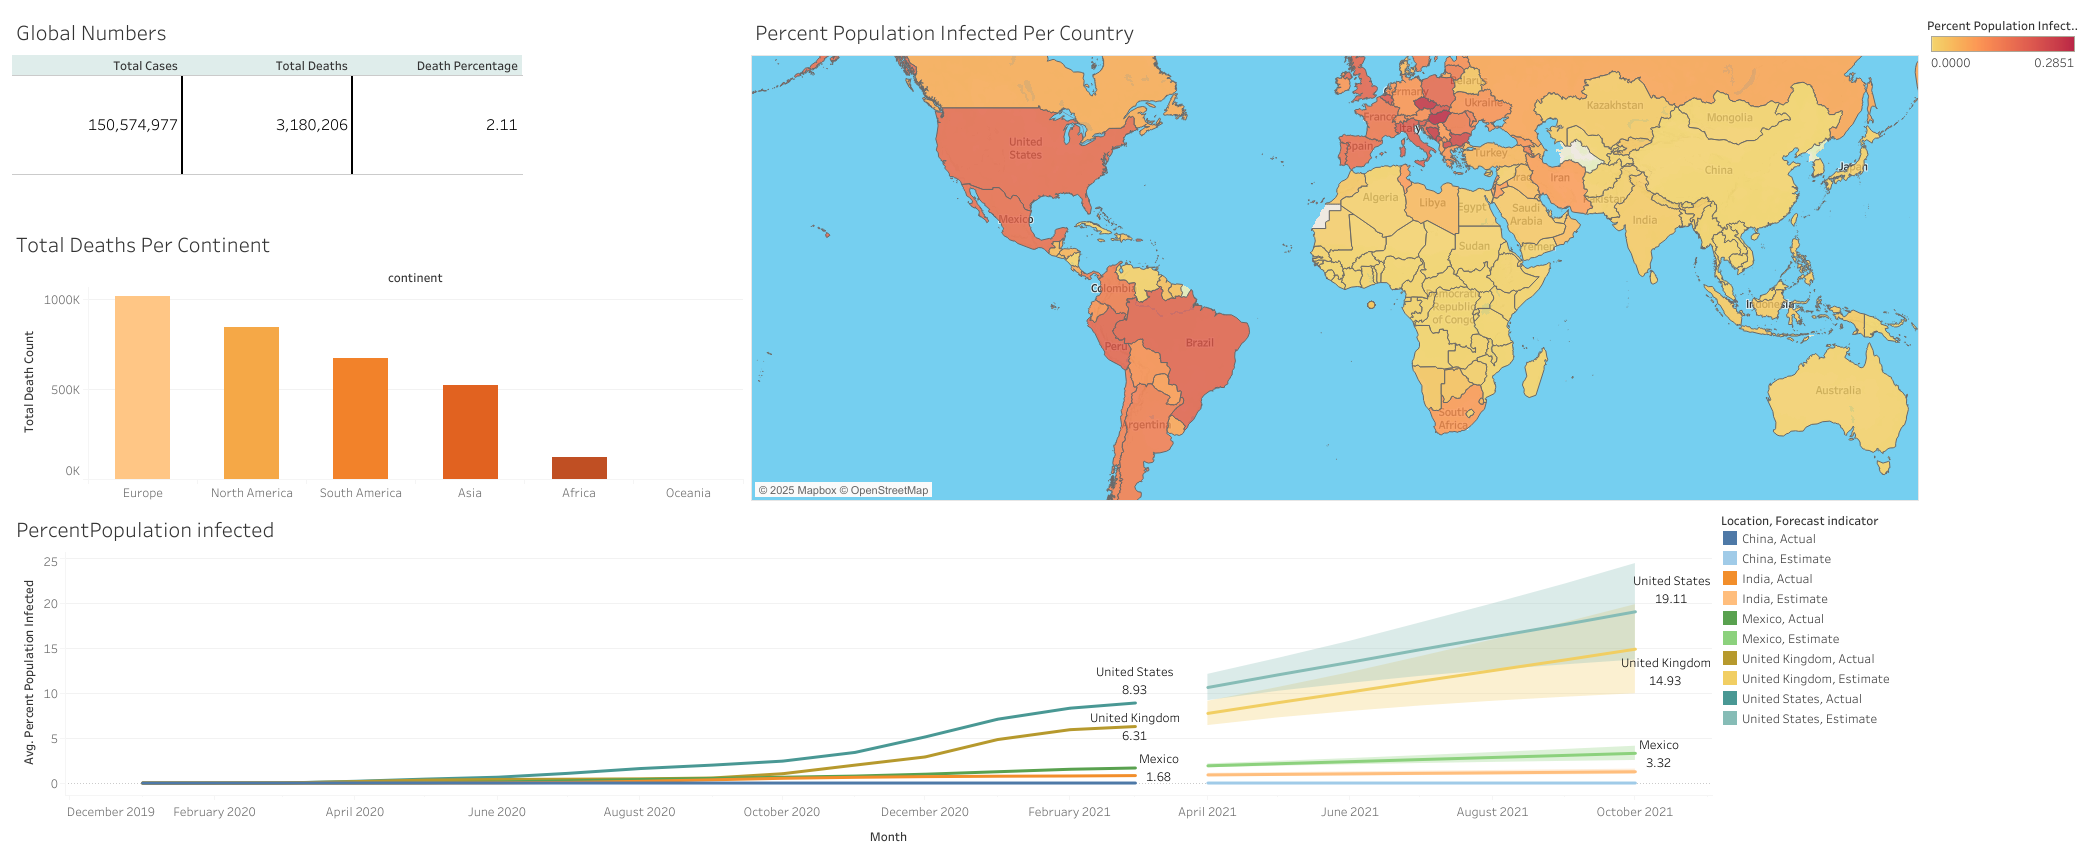

What the dashboard file says about the page in this screenshot:
{"tool":"tableau","page":{"name":"Dashboard 1","canvas":[1000,1000],"units":"permille","ordinal":0},"visuals":[{"type":"worksheet","title":"Sheet 1","mark":"Automatic","box":[4.7,9.3,346.4,245.3]},{"type":"worksheet","title":"Sheet 3","mark":"Automatic","box":[351.1,9.3,550.6,574.8]},{"type":"legend","title":"Sheet 3","param":"[federated.0pkf73y0p6iyuc1e1s4l01lr5zsd].[sum:PercentPopulationInfected:qk]","box":[901.7,9.3,93.6,75.9]},{"type":"worksheet","title":"Sheet 2","mark":"Automatic","rows":["TotalDeathCount"],"cols":["location"],"box":[4.7,254.7,346.4,329.4]},{"type":"worksheet","title":"Sheet 4","mark":"Automatic","rows":["PercentPopulationInfected"],"cols":["date"],"box":[4.7,584.1,799.9,406.5]},{"type":"legend","title":"Sheet 4","param":"[federated.0uumfbt1mevbq91fitafc1etzi0q].[none:Location:nk]\n[federated.0uumfbt1m","box":[804.6,584.1,97.1,406.5]}]}

Visuals, with their boxes on the dashboard's canvas, which has no fixed pixel size, in thousandths of its width and height (x1, y1, x2, y2). These are canvas units, not pixel positions in the 2090x863 screenshot, which may show the page scaled, cropped or inside an application window:
"Sheet 1" worksheet: Rect(5, 9, 351, 255)
"Sheet 3" worksheet: Rect(351, 9, 902, 584)
"Sheet 3" legend: Rect(902, 9, 995, 85)
"Sheet 2" worksheet: Rect(5, 255, 351, 584)
"Sheet 4" worksheet: Rect(5, 584, 805, 991)
"Sheet 4" legend: Rect(805, 584, 902, 991)
